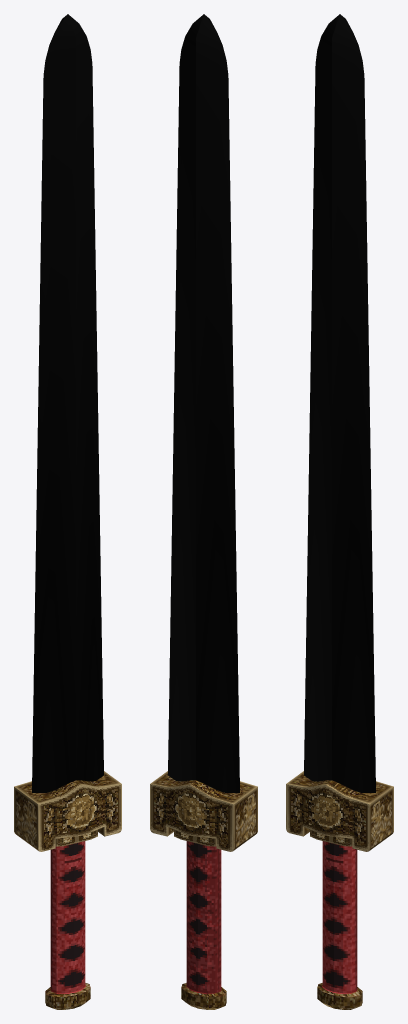
File: monk sword baked.glb
3 renders of one model, left to right at view 1: azimuth 30°, elevation 25°; view 2: azimuth 150°, elevation 25°; view 3: azimuth 330°, elevation 25°, orthographic.
Parts seen in each view (by area): view 1: blade baked, handle.001, gaurd.001, Cube.001; view 2: blade baked, handle.001, gaurd.001, Cube.001; view 3: blade baked, handle.001, gaurd.001, Cube.001.
Boxes of the visible parts, x1=… form: blade baked: x1=32, y1=14, x2=103, y2=792; handle.001: x1=45, y1=841, x2=90, y2=1009; gaurd.001: x1=14, y1=771, x2=121, y2=851; Cube.001: x1=55, y1=829, x2=97, y2=846; blade baked: x1=168, y1=14, x2=239, y2=792; handle.001: x1=181, y1=841, x2=226, y2=1009; gaurd.001: x1=150, y1=771, x2=257, y2=851; Cube.001: x1=174, y1=829, x2=216, y2=846; blade baked: x1=304, y1=14, x2=375, y2=792; handle.001: x1=317, y1=841, x2=362, y2=1009; gaurd.001: x1=286, y1=771, x2=393, y2=851; Cube.001: x1=310, y1=829, x2=352, y2=846.
Size of the model in its own units: 0.2008 by 2.27 by 0.117.
Materials: 4 (4 with a texture image).
